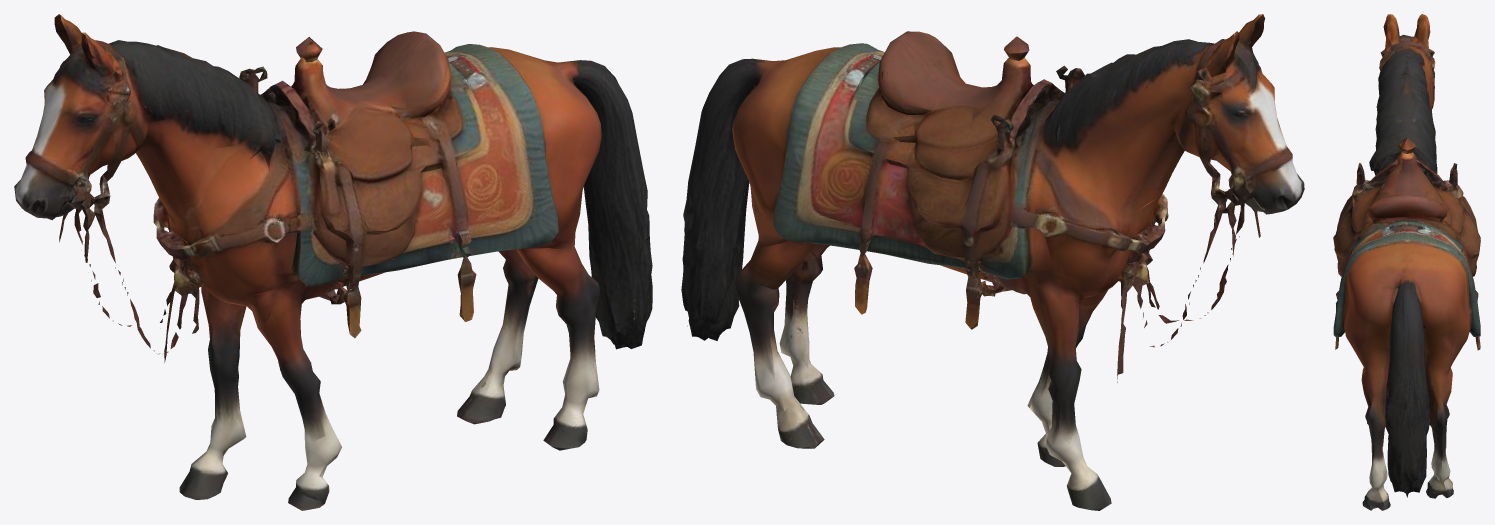
Rendered from horse_saddled_lod0.glb.
3 renders of one model, left to right at view 1: azimuth 30°, elevation 25°; view 2: azimuth 150°, elevation 25°; view 3: azimuth 270°, elevation 25°, orthographic. The views are drawn at different scales.
Parts seen in each view (by area): view 1: horse_saddled_lod0; view 2: horse_saddled_lod0; view 3: horse_saddled_lod0.
Part boxes in pixels (bbox=[...]): horse_saddled_lod0: bbox=[14, 14, 652, 510]; horse_saddled_lod0: bbox=[681, 14, 1304, 510]; horse_saddled_lod0: bbox=[1333, 14, 1480, 510].
Size of the model in its own units: 2.29 by 1.8 by 0.7058.
1 material, 1 textured.
